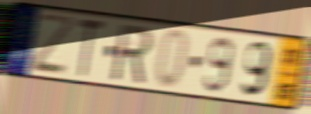0: (152, 26, 192, 91)
9: (240, 39, 272, 100), (202, 35, 234, 95)
R: (111, 22, 154, 87)
T: (76, 16, 107, 79)
Z: (31, 12, 76, 78)
